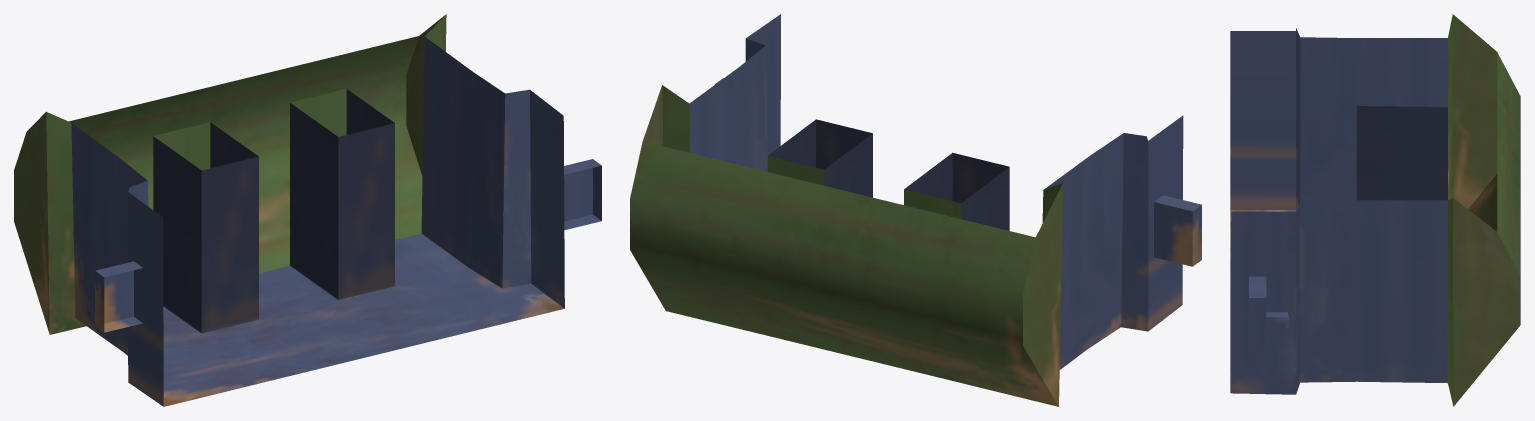
Rendered from SM_Train_Corps.fbx.
3 views of the same model, side by side, from view 1: azimuth 30°, elevation 25°; view 2: azimuth 150°, elevation 25°; view 3: azimuth 270°, elevation 25° (orthographic). The views are drawn at different scales.
Parts seen in each view (by area): view 1: SM_Train_Corps; view 2: SM_Train_Corps; view 3: SM_Train_Corps.
Part boxes in pixels (<box>): SM_Train_Corps: <box>14,14,601,406</box>; SM_Train_Corps: <box>630,14,1201,406</box>; SM_Train_Corps: <box>1230,14,1520,406</box>.
Bounding box in the file's own units: 36.28 × 15.98 × 19.92.
